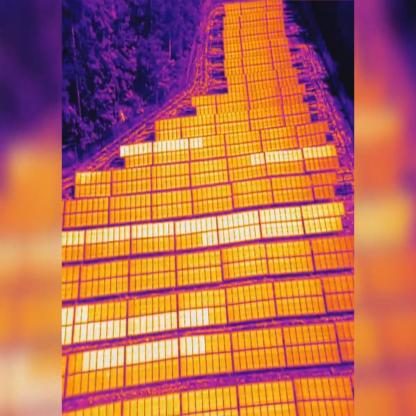diode: (82, 351, 90, 372), (104, 348, 112, 368), (80, 324, 88, 342), (170, 311, 178, 329), (112, 349, 120, 366), (72, 325, 79, 344), (87, 323, 94, 341), (90, 351, 96, 372), (193, 336, 200, 354), (154, 342, 160, 362), (247, 226, 255, 241), (314, 220, 322, 235), (65, 327, 72, 344), (84, 304, 90, 323), (97, 350, 103, 369), (125, 346, 131, 365), (139, 344, 145, 363), (119, 347, 125, 365), (132, 346, 138, 364), (147, 343, 153, 361), (182, 338, 188, 356), (180, 311, 186, 329), (76, 305, 82, 322), (95, 323, 101, 340), (109, 321, 115, 338), (135, 318, 141, 335), (161, 341, 167, 358), (200, 336, 206, 353), (68, 306, 74, 322), (102, 323, 108, 339), (120, 320, 126, 336), (142, 318, 148, 334), (160, 313, 166, 329), (166, 312, 172, 328), (192, 310, 198, 326), (198, 309, 204, 325), (68, 231, 74, 247), (313, 205, 319, 221), (305, 221, 312, 234), (62, 308, 68, 323), (153, 314, 159, 329), (186, 311, 192, 326), (189, 337, 194, 355), (72, 230, 78, 245), (108, 228, 114, 243), (182, 219, 188, 234), (254, 211, 260, 226), (318, 204, 324, 219), (312, 220, 318, 235), (204, 308, 209, 325), (168, 340, 173, 357), (147, 317, 153, 331), (98, 230, 104, 244), (168, 221, 174, 235), (232, 216, 238, 230), (264, 210, 270, 224), (272, 223, 278, 237), (202, 232, 208, 246), (174, 339, 179, 355), (244, 212, 250, 225), (212, 233, 218, 246), (266, 224, 272, 237), (297, 221, 303, 234), (327, 220, 333, 233), (322, 221, 328, 234), (62, 232, 67, 247), (79, 229, 84, 244), (125, 225, 130, 240), (137, 223, 142, 238), (209, 216, 214, 231), (219, 230, 224, 245), (128, 318, 132, 336), (147, 142, 153, 154), (230, 231, 236, 243), (242, 229, 248, 241), (276, 210, 282, 222), (333, 220, 339, 232), (324, 205, 330, 217), (142, 142, 148, 154), (162, 221, 167, 235), (239, 214, 244, 228), (209, 233, 214, 247), (235, 228, 240, 242), (260, 211, 265, 225), (256, 224, 261, 238), (286, 208, 291, 222), (278, 223, 283, 237), (292, 224, 298, 235), (330, 204, 336, 215), (156, 224, 161, 237), (271, 209, 276, 222), (337, 204, 342, 217), (62, 327, 66, 343), (114, 322, 118, 338), (85, 172, 90, 184), (132, 225, 136, 240), (174, 222, 179, 234), (190, 221, 195, 233), (200, 218, 204, 233), (216, 217, 221, 229), (226, 216, 231, 228), (249, 212, 254, 224), (288, 224, 293, 236), (303, 206, 308, 218), (309, 206, 314, 218), (282, 222, 286, 237), (86, 229, 90, 243), (92, 230, 96, 244), (104, 230, 108, 244), (120, 228, 124, 242), (298, 206, 302, 220), (313, 147, 317, 161), (152, 224, 156, 238), (179, 222, 184, 233), (195, 221, 200, 232), (292, 209, 297, 220), (298, 150, 303, 161), (262, 227, 267, 238), (322, 147, 327, 158), (115, 228, 119, 241), (226, 231, 230, 244), (282, 208, 286, 221), (130, 146, 135, 156), (281, 152, 286, 162), (304, 148, 309, 158), (162, 142, 167, 152), (158, 140, 162, 152), (148, 225, 152, 237), (222, 217, 226, 229), (256, 212, 260, 224), (286, 150, 290, 162), (309, 148, 313, 160), (80, 174, 84, 185), (182, 140, 186, 151), (142, 225, 146, 236), (251, 155, 255, 166), (290, 150, 294, 161), (295, 151, 299, 162), (317, 148, 321, 159), (154, 143, 158, 153), (168, 141, 172, 151), (172, 140, 176, 150), (191, 139, 195, 149), (125, 146, 129, 156), (256, 155, 260, 165), (276, 152, 280, 162), (266, 154, 270, 164), (136, 143, 139, 155), (140, 145, 144, 154), (187, 140, 191, 149), (206, 218, 209, 230), (259, 155, 263, 164), (272, 152, 275, 164), (196, 140, 200, 148), (178, 140, 181, 150), (121, 146, 124, 156)
hotspot: (77, 174, 81, 177)
